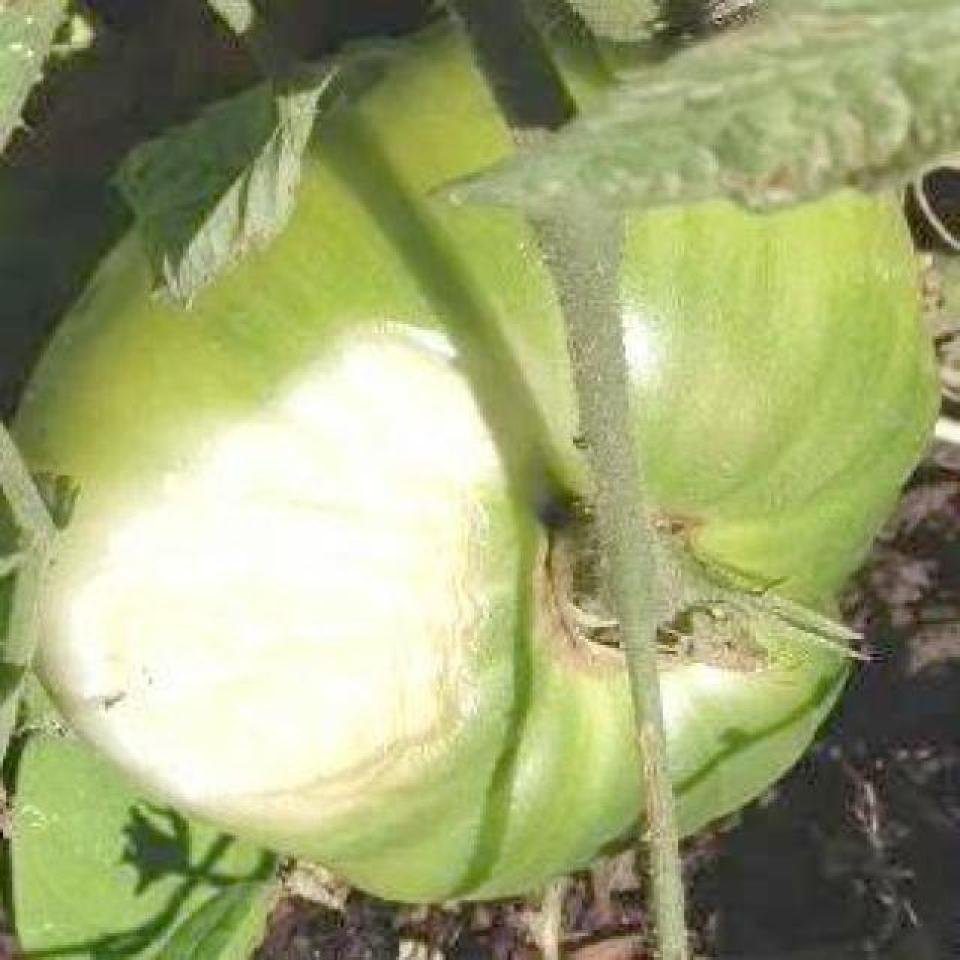Sunscald: (60, 262, 519, 840)
